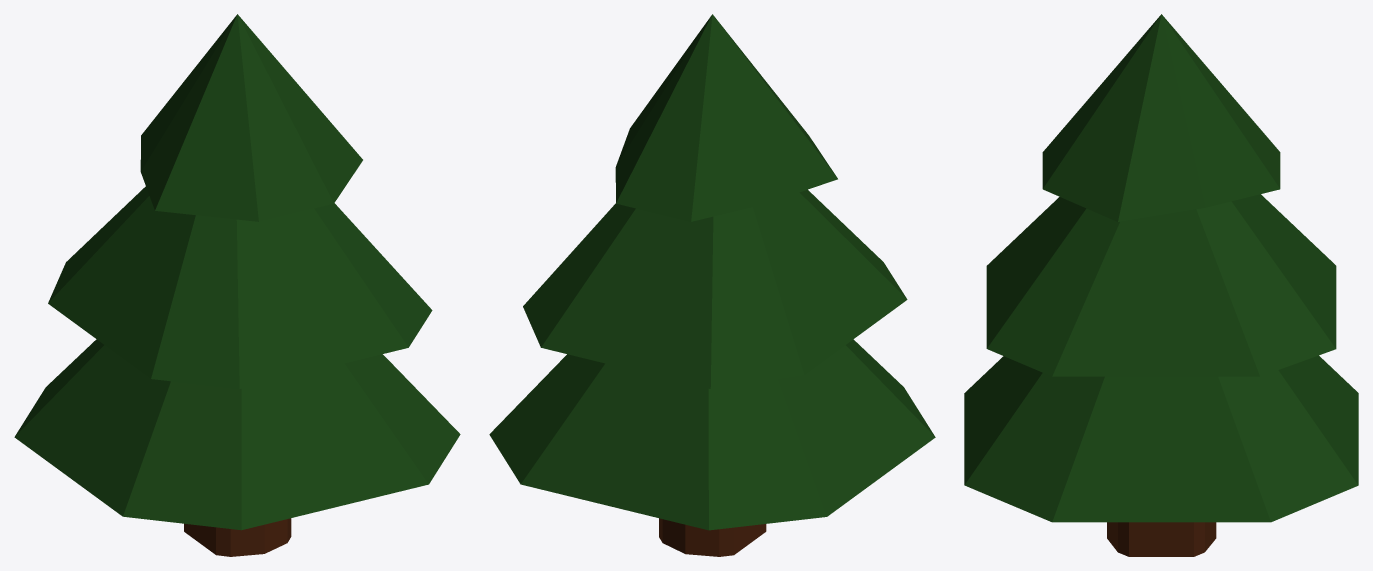
The model's file is tree 1.fbx.
3 renders of one model, left to right at view 1: azimuth 30°, elevation 25°; view 2: azimuth 150°, elevation 25°; view 3: azimuth 270°, elevation 25°, orthographic.
Parts seen in each view (by area): view 1: Cube; view 2: Cube; view 3: Cube.
Boxes of the visible parts, x1=… form: Cube: x1=14, y1=14, x2=460, y2=556; Cube: x1=489, y1=14, x2=935, y2=556; Cube: x1=964, y1=14, x2=1358, y2=556.
Size of the model in its own units: 360 by 529 by 361.
